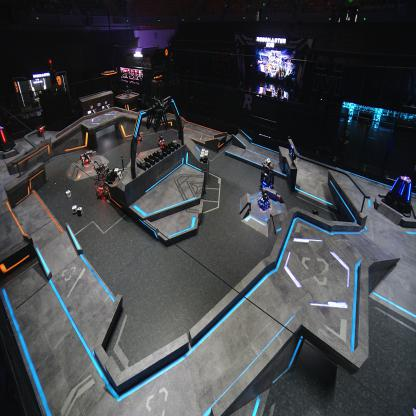car: (94, 163, 113, 198), (259, 162, 275, 193), (257, 190, 271, 210), (80, 148, 92, 166), (157, 134, 165, 148), (134, 130, 142, 143)
